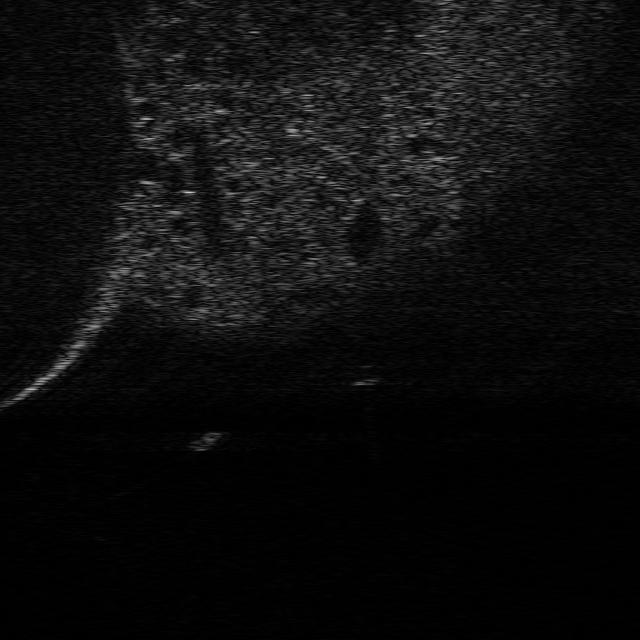cube: (346, 364, 385, 386)
cylinder: (186, 431, 230, 452)
